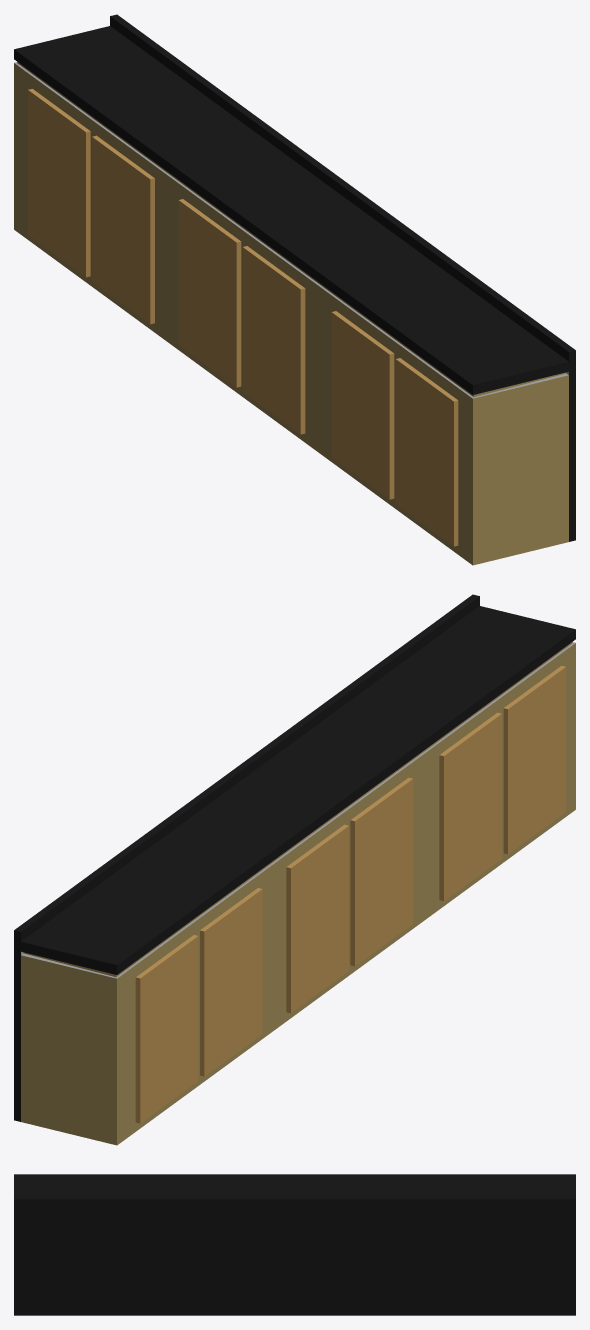
File: ChemTable.fbx
3 renders of one model, top to bottom at view 1: azimuth 30°, elevation 25°; view 2: azimuth 150°, elevation 25°; view 3: azimuth 270°, elevation 25°, orthographic. The views are drawn at different scales.
Parts seen in each view (by area): view 1: pCube113, pCube121, pCube119, pCube118, pCube120, pCube123, pCube122; view 2: pCube113, pCube121, pCube122, pCube119, pCube118, pCube123, pCube120; view 3: pCube113.
Boxes of the visible parts, box(x1,y1,x2,y2) form: pCube113: box(14, 14, 575, 565); pCube121: box(242, 246, 305, 434); pCube119: box(395, 358, 458, 546); pCube118: box(331, 311, 394, 499); pCube120: box(178, 199, 241, 387); pCube123: box(92, 135, 154, 324); pCube122: box(28, 89, 90, 277); pCube113: box(14, 594, 575, 1145); pCube121: box(350, 777, 413, 966); pCube122: box(135, 935, 198, 1123); pCube119: box(503, 665, 566, 854); pCube118: box(439, 712, 501, 901); pCube123: box(200, 888, 262, 1076); pCube120: box(286, 824, 348, 1013); pCube113: box(14, 1174, 575, 1315).
Size of the model in its own units: 3.31 by 5.58 by 24.41.
